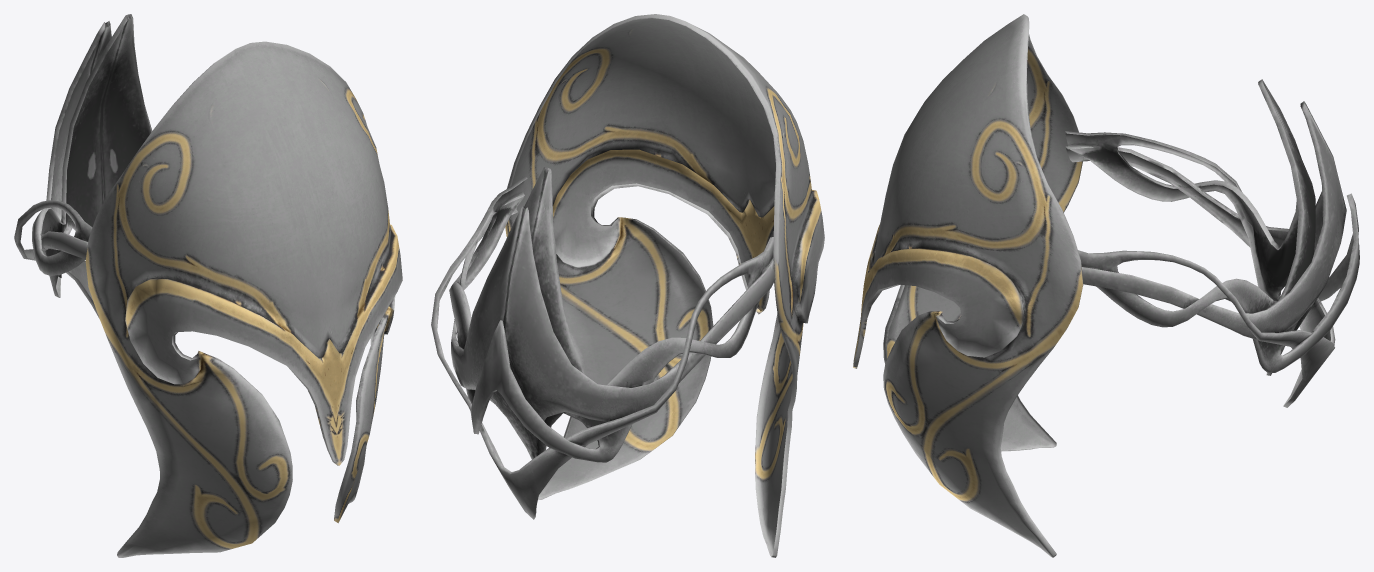
Rendered from rivendell_helmet_lord_circletmask_silvergold.fbx.
The picture shows the model from 3 angles, left to right: view 1: azimuth 30°, elevation 25°; view 2: azimuth 150°, elevation 25°; view 3: azimuth 270°, elevation 25°; orthographic projection. The views are drawn at different scales.
Visible parts, largest first — view 1: rivendell_helmet_lord_circletmask_silvergold.1, rivendell_helmet_lord_circletmask_silvergold.0; view 2: rivendell_helmet_lord_circletmask_silvergold.1, rivendell_helmet_lord_circletmask_silvergold.0; view 3: rivendell_helmet_lord_circletmask_silvergold.1, rivendell_helmet_lord_circletmask_silvergold.0.
Boxes of the visible parts, x1=… form: rivendell_helmet_lord_circletmask_silvergold.1: x1=85, y1=41, x2=402, y2=557; rivendell_helmet_lord_circletmask_silvergold.0: x1=14, y1=14, x2=152, y2=318; rivendell_helmet_lord_circletmask_silvergold.1: x1=505, y1=14, x2=824, y2=557; rivendell_helmet_lord_circletmask_silvergold.0: x1=431, y1=167, x2=775, y2=519; rivendell_helmet_lord_circletmask_silvergold.1: x1=853, y1=14, x2=1083, y2=557; rivendell_helmet_lord_circletmask_silvergold.0: x1=1065, y1=79, x2=1359, y2=407.
Size of the model in its own units: 0.1767 by 0.2903 by 0.3038.
2 materials, 2 textured.
